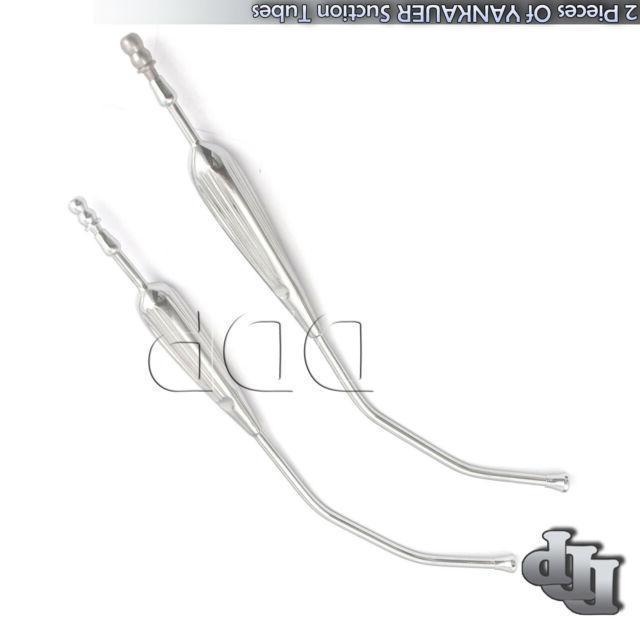Yankauer: (118, 32, 575, 498), (63, 188, 521, 574)
